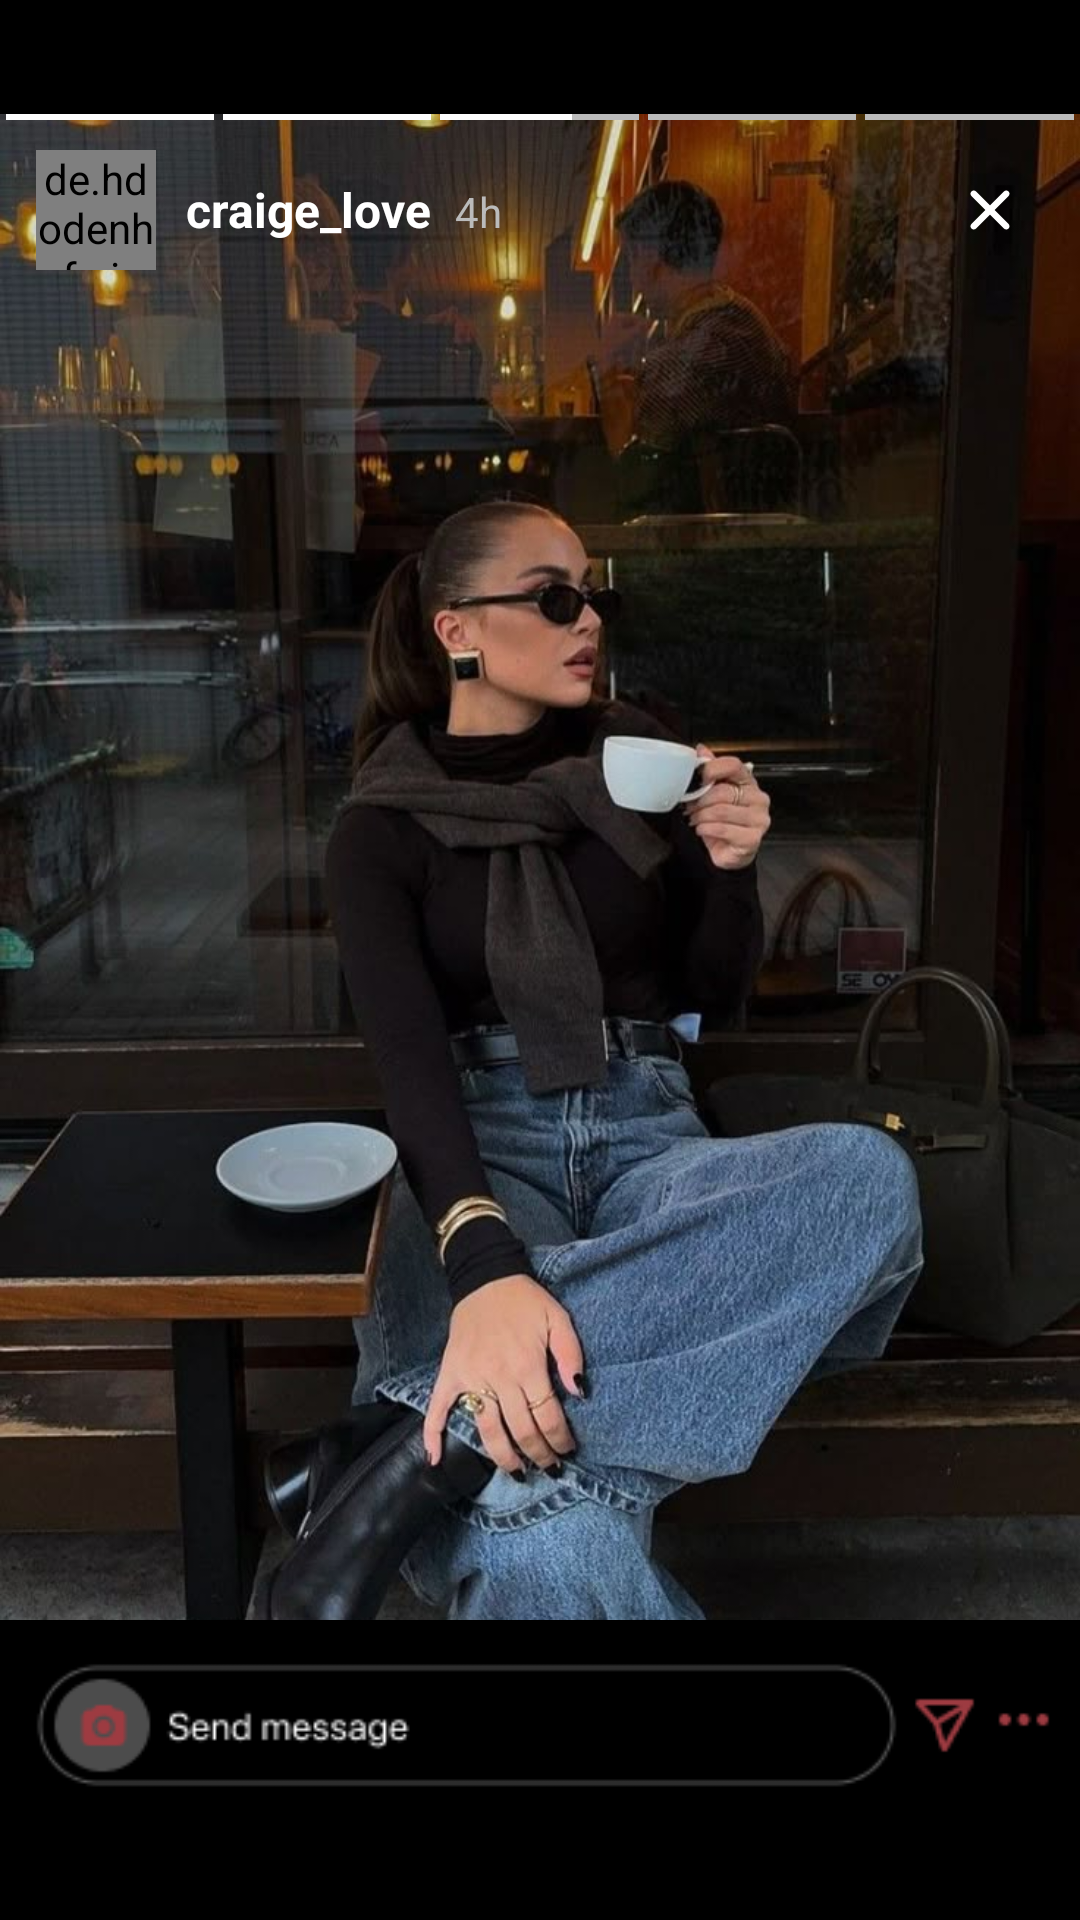

Screen size 1080px×1920px. Icon name, then its center in pixels as (x=x, y=y):
close: (x=983, y=210)
